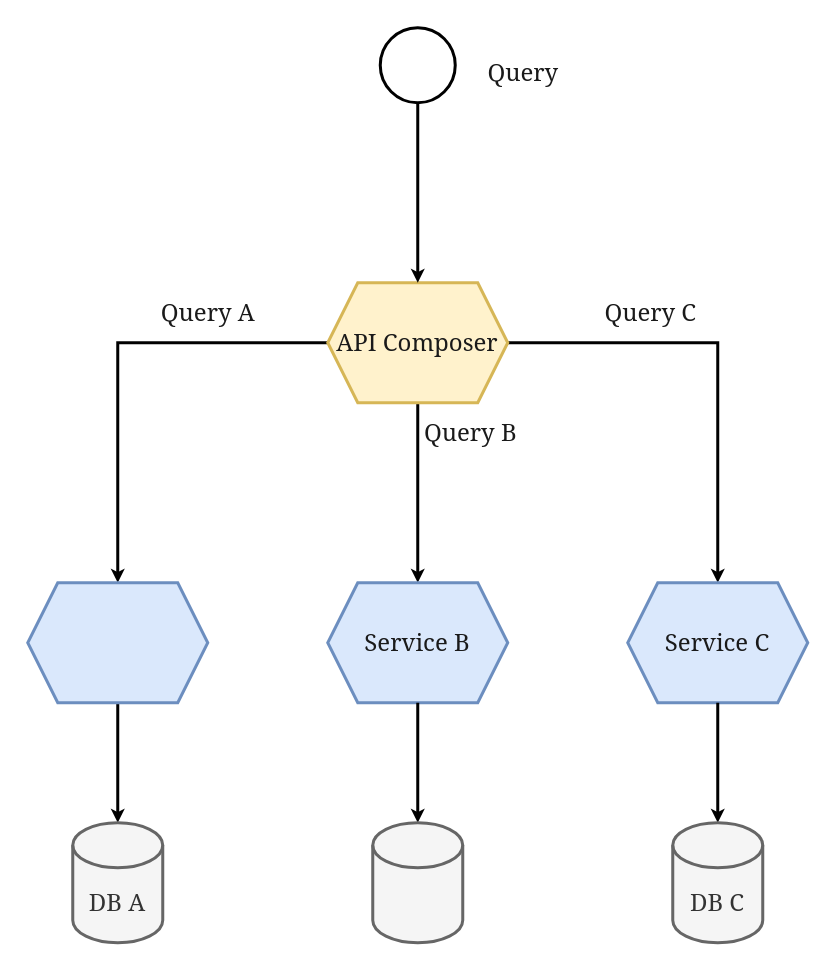
Some shapes in this 834 by 969 pixel diagram are drawn without their labels. The shapes that lost their labels are listed below. From the top down, each one's centre as x and y in pixels, then its label:
At (x=117, y=642): "Service A".
At (x=417, y=882): "DB B".
